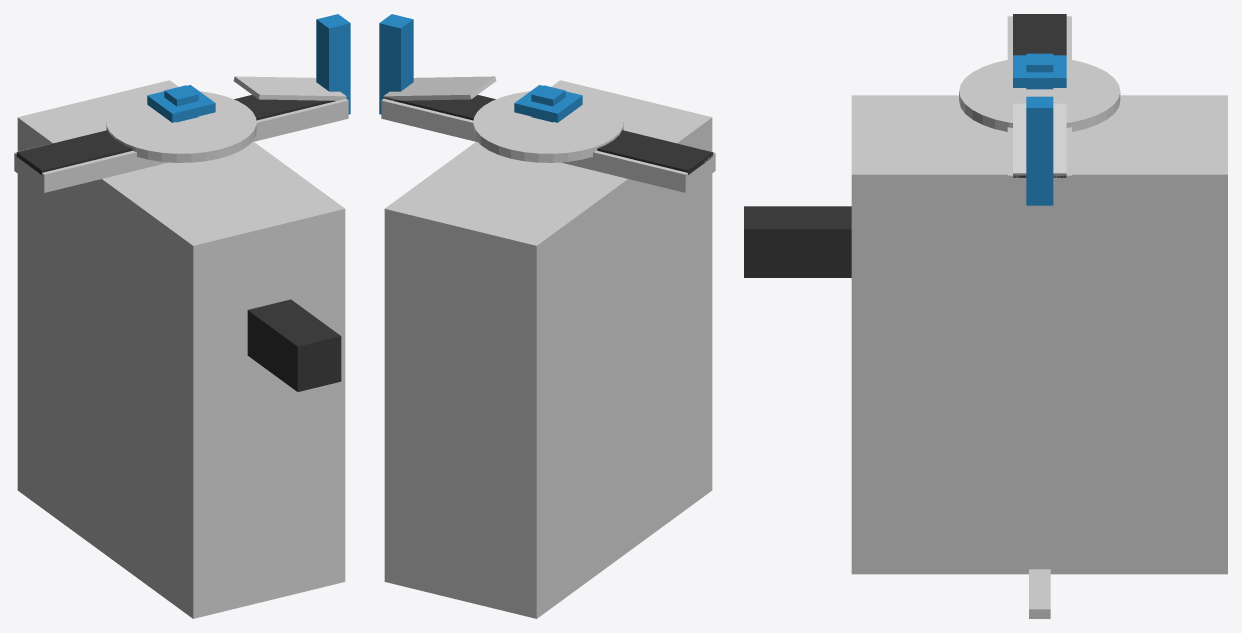
The model's file is assembly_line.glb.
The picture shows the model from 3 angles, left to right: view 1: azimuth 30°, elevation 25°; view 2: azimuth 150°, elevation 25°; view 3: azimuth 270°, elevation 25°; orthographic projection. The views are drawn at different scales.
Parts seen in each view (by area): view 1: Base_Cabinet_Distributing, Profile_Plate_Distributing, Turntable, Control_Panel_Distributing, Conveyor_Frame, Conveyor_Belt_Sort, Gantry_Z, AirSlide_Ramp, Lift_Platform, Buffer_Belt, Magazine_Pusher; view 2: Base_Cabinet_Distributing, Profile_Plate_Distributing, Turntable, Conveyor_Frame, Conveyor_Belt_Sort, Gantry_Z, AirSlide_Ramp, Lift_Platform, Buffer_Belt, Magazine_Pusher; view 3: Base_Cabinet_Distributing, Profile_Plate_Distributing, Control_Panel_Distributing, Turntable, Gantry_Z, Conveyor_Belt_Sort, AirSlide_Ramp, Conveyor_Frame, Lift_Platform, Arm_Mesh.
Boxes of the visible parts, bbox=[...] form: Base_Cabinet_Distributing: bbox=[17, 127, 345, 618]; Profile_Plate_Distributing: bbox=[17, 80, 345, 254]; Turntable: bbox=[106, 91, 256, 162]; Control_Panel_Distributing: bbox=[247, 299, 341, 391]; Conveyor_Frame: bbox=[14, 95, 348, 192]; Conveyor_Belt_Sort: bbox=[16, 100, 335, 174]; Gantry_Z: bbox=[316, 14, 350, 114]; AirSlide_Ramp: bbox=[233, 76, 346, 100]; Lift_Platform: bbox=[147, 85, 215, 122]; Buffer_Belt: bbox=[234, 95, 322, 120]; Magazine_Pusher: bbox=[164, 85, 198, 122]; Base_Cabinet_Distributing: bbox=[384, 127, 712, 618]; Profile_Plate_Distributing: bbox=[384, 80, 712, 254]; Turntable: bbox=[473, 91, 623, 162]; Conveyor_Frame: bbox=[381, 95, 715, 192]; Conveyor_Belt_Sort: bbox=[383, 96, 713, 174]; Gantry_Z: bbox=[379, 14, 413, 114]; AirSlide_Ramp: bbox=[383, 76, 496, 100]; Lift_Platform: bbox=[514, 85, 582, 122]; Buffer_Belt: bbox=[384, 95, 495, 120]; Magazine_Pusher: bbox=[531, 85, 565, 122]; Base_Cabinet_Distributing: bbox=[851, 184, 1227, 574]; Profile_Plate_Distributing: bbox=[851, 95, 1227, 184]; Control_Panel_Distributing: bbox=[744, 206, 851, 277]; Turntable: bbox=[959, 59, 1120, 131]; Gantry_Z: bbox=[1026, 96, 1053, 205]; Conveyor_Belt_Sort: bbox=[1013, 14, 1066, 177]; AirSlide_Ramp: bbox=[1013, 103, 1066, 175]; Conveyor_Frame: bbox=[1007, 16, 1071, 194]; Lift_Platform: bbox=[1013, 55, 1066, 87]; Arm_Mesh: bbox=[1029, 569, 1050, 618].
Size of the model in its own units: 0.725 by 1.06 by 0.9.
